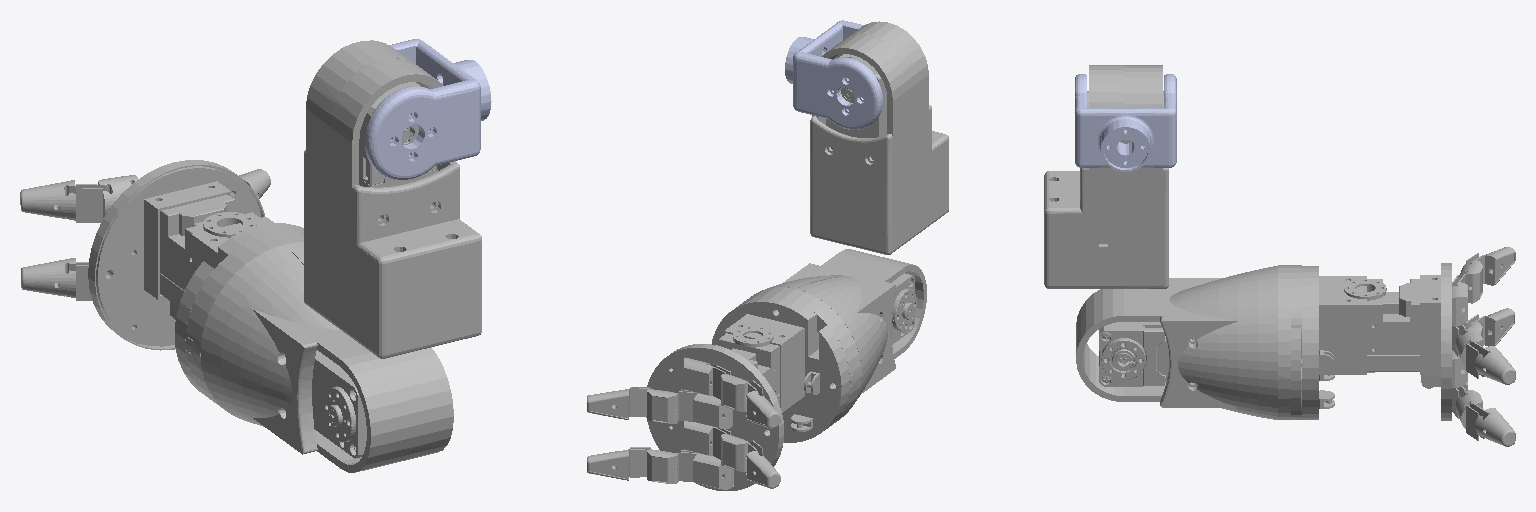
URDF robot description (left):
<?xml version="1.0" encoding="utf-8"?>
<!-- This URDF was automatically created by SolidWorks to URDF Exporter! Originally created by [author] ([email redacted]) 
     Commit Version: 1.6.0-4-g7f85cfe  Build Version: 1.6.7995.38578
     For more information, please see http://wiki.ros.org/sw_urdf_exporter -->
<robot
  name="left">
  
  
   <link name="world"/>
  
  
  
  <joint name="base_joint" type="fixed">
	<parent link="world"/>
	<child link="base_link"/>
	<origin rpy="0 0 0" xyz="0.0 0.0 1"/>
  </joint>  
  
  <link
    name="base_link">
    <inertial>
      <origin
        xyz="0.000333168231091308 -0.0490077134325242 0.105556739128517"
        rpy="0 0 0" />
      <mass
        value="0.43756889593348" />
      <inertia
        ixx="0.000780173945392212"
        ixy="1.72547696446316E-06"
        ixz="-8.11722846382814E-08"
        iyy="0.000825842165328829"
        iyz="4.67151417985947E-05"
        izz="0.000643183765667985" />
    </inertial>
    <visual>
      <origin
        xyz="0 0 0"
        rpy="0 0 0" />
      <geometry>
        <mesh
          filename="package://left/meshes/base_link.STL" />
      </geometry>
      <material
        name="">
        <color
          rgba="1 1 1 1" />
      </material>
    </visual>
    <collision>
      <origin
        xyz="0 0 0"
        rpy="0 0 0" />
      <geometry>
        <mesh
          filename="package://left/meshes/base_link.STL" />
      </geometry>
    </collision>
  </link>
  <link
    name="left_up_joint">
    <inertial>
      <origin
        xyz="-5.09595435294052E-10 -7.24041521182883E-10 -0.0157092653420776"
        rpy="0 0 0" />
      <mass
        value="0.0208133468453592" />
      <inertia
        ixx="6.27974968154287E-06"
        ixy="-1.32343047861604E-11"
        ixz="-8.95773959812006E-14"
        iyy="1.11423800240112E-05"
        iyz="-1.2794410246771E-13"
        izz="8.2135527700594E-06" />
    </inertial>
    <visual>
      <origin
        xyz="0 0 0"
        rpy="0 0 0" />
      <geometry>
        <mesh
          filename="package://left/meshes/left_up_joint.STL" />
      </geometry>
      <material
        name="">
        <color
          rgba="0.792156862745098 0.819607843137255 0.933333333333333 1" />
      </material>
    </visual>
    <collision>
      <origin
        xyz="0 0 0"
        rpy="0 0 0" />
      <geometry>
        <mesh
          filename="package://left/meshes/left_up_joint.STL" />
      </geometry>
    </collision>
  </link>
  <joint
    name="l1"
    type="revolute">
    <origin
      xyz="-0.0936387883044479 -0.0510621773979172 0.130726931673384"
      rpy="-1.5707963267949 0 1.5707963267949" />
    <parent
      link="base_link" />
    <child
      link="left_up_joint" />
    <axis
      xyz="0 0 1" />
    <limit
      lower="-3.14"
      upper="3.14"
      effort="100"
      velocity="1" />
  </joint>
  <link
    name="left_up_arm">
    <inertial>
      <origin
        xyz="0.0373903260955437 6.01721482867967E-05 -0.00541151025560828"
        rpy="0 0 0" />
      <mass
        value="0.142004365290477" />
      <inertia
        ixx="3.19807239576317E-05"
        ixy="-4.35320002639632E-08"
        ixz="2.24405433812155E-06"
        iyy="6.16421105939794E-05"
        iyz="9.81629533561359E-10"
        izz="6.84742764155625E-05" />
    </inertial>
    <visual>
      <origin
        xyz="0 0 0"
        rpy="0 0 0" />
      <geometry>
        <mesh
          filename="package://left/meshes/left_up_arm.STL" />
      </geometry>
      <material
        name="">
        <color
          rgba="0.752941176470588 0.752941176470588 0.752941176470588 1" />
      </material>
    </visual>
    <collision>
      <origin
        xyz="0 0 0"
        rpy="0 0 0" />
      <geometry>
        <mesh
          filename="package://left/meshes/left_up_arm.STL" />
      </geometry>
    </collision>
  </link>
  <joint
    name="l2"
    type="revolute">
    <origin
      xyz="0 0 0"
      rpy="1.5707963267949 0 1.57079632679489" />
    <parent
      link="left_up_joint" />
    <child
      link="left_up_arm" />
    <axis
      xyz="0 0 -1" />
    <limit
      lower="-3.14"
      upper="3.14"
      effort="100"
      velocity="1" />
  </joint>
  <link
    name="left_low_joint">
    <inertial>
      <origin
        xyz="2.22044604925031E-16 -2.85966136187588E-10 -0.0157092656103693"
        rpy="0 0 0" />
      <mass
        value="0.0208133475595526" />
      <inertia
        ixx="6.27974985366218E-06"
        ixy="-1.33778831812525E-11"
        ixz="1.17235207133201E-19"
        iyy="1.114238023727E-05"
        iyz="-4.94677558464213E-14"
        izz="8.21355305611453E-06" />
    </inertial>
    <visual>
      <origin
        xyz="0 0 0"
        rpy="0 0 0" />
      <geometry>
        <mesh
          filename="package://left/meshes/left_low_joint.STL" />
      </geometry>
      <material
        name="">
        <color
          rgba="0.792156862745098 0.819607843137255 0.933333333333333 1" />
      </material>
    </visual>
    <collision>
      <origin
        xyz="0 0 0"
        rpy="0 0 0" />
      <geometry>
        <mesh
          filename="package://left/meshes/left_low_joint.STL" />
      </geometry>
    </collision>
  </link>
  <joint
    name="l3"
    type="revolute">
    <origin
      xyz="0.117 0 -0.00100000000000006"
      rpy="-1.5707963267949 0 -1.5707963267949" />
    <parent
      link="left_up_arm" />
    <child
      link="left_low_joint" />
    <axis
      xyz="0 0 1" />
    <limit
      lower="-3.14"
      upper="3.14"
      effort="100"
      velocity="1" />
  </joint>
  <link
    name="left_low_arm">
    <inertial>
      <origin
        xyz="0.0481196273812194 -0.000145349329483678 0.000141021295786303"
        rpy="0 0 0" />
      <mass
        value="0.189033643696219" />
      <inertia
        ixx="7.6979741225698E-05"
        ixy="-3.38641336425108E-07"
        ixz="-3.25828337644159E-09"
        iyy="8.21074310058178E-05"
        iyz="-5.51403520464928E-07"
        izz="0.000103326261719523" />
    </inertial>
    <visual>
      <origin
        xyz="0 0 0"
        rpy="0 0 0" />
      <geometry>
        <mesh
          filename="package://left/meshes/left_low_arm.STL" />
      </geometry>
      <material
        name="">
        <color
          rgba="0.752941176470588 0.752941176470588 0.752941176470588 1" />
      </material>
    </visual>
    <collision>
      <origin
        xyz="0 0 0"
        rpy="0 0 0" />
      <geometry>
        <mesh
          filename="package://left/meshes/left_low_arm.STL" />
      </geometry>
    </collision>
  </link>
  <joint
    name="l4"
    type="revolute">
    <origin
      xyz="0 0 0"
      rpy="-1.5707963267949 0 -1.5707963267949" />
    <parent
      link="left_low_joint" />
    <child
      link="left_low_arm" />
    <axis
      xyz="0 0 -1" />
    <limit
      lower="-3.14"
      upper="3.14"
      effort="100"
      velocity="1" />
  </joint>
  <link
    name="left_gripper">
    <inertial>
      <origin
        xyz="0.00394028289479496 -0.0216328066989446 -0.000648626674703112"
        rpy="0 0 0" />
      <mass
        value="0.103299324219439" />
      <inertia
        ixx="2.09630043696831E-05"
        ixy="-3.12167035365805E-07"
        ixz="-2.90752267814506E-08"
        iyy="2.33522908570638E-05"
        iyz="-1.75561004581678E-08"
        izz="1.89319959235233E-05" />
    </inertial>
    <visual>
      <origin
        xyz="0 0 0"
        rpy="0 0 0" />
      <geometry>
        <mesh
          filename="package://left/meshes/left_gripper.STL" />
      </geometry>
      <material
        name="">
        <color
          rgba="0.752941176470588 0.752941176470588 0.752941176470588 1" />
      </material>
    </visual>
    <collision>
      <origin
        xyz="0 0 0"
        rpy="0 0 0" />
      <geometry>
        <mesh
          filename="package://left/meshes/left_gripper.STL" />
      </geometry>
    </collision>
  </link>
  <joint
    name="l5"
    type="fixed">
    <origin
      xyz="0.15114001564623 0.000250000152477973 -0.000500000000000389"
      rpy="-3.14159265358979 0 1.5707963267949" />
    <parent
      link="left_low_arm" />
    <child
      link="left_gripper" />
    <axis
      xyz="0 0 0" />
  </joint>
  
  <transmission name="left_up_joint_trans">
	<type>transmission_interface/SimpleTransmission</type>
	<joint name="l1">
		<hardwareInterface>hardware_interface/PositionJointInterface</hardwareInterface>
	</joint>
	<actuator name="left_up_joint_motor">
		<hardwareInterface>hardware_interface/PositionJointInterface</hardwareInterface>
		<mechanicalReduction>1</mechanicalReduction>
	</actuator>
  </transmission>
  
  <transmission name="left_up_arm_trans">
	<type>transmission_interface/SimpleTransmission</type>
	<joint name="l2">
		<hardwareInterface>hardware_interface/PositionJointInterface</hardwareInterface>
	</joint>
	<actuator name="left_up_arm_motor">
		<hardwareInterface>hardware_interface/PositionJointInterface</hardwareInterface>
		<mechanicalReduction>1</mechanicalReduction>
	</actuator>
  </transmission>
  
  <transmission name="left_low_joint_trans">
	<type>transmission_interface/SimpleTransmission</type>
	<joint name="l3">
		<hardwareInterface>hardware_interface/PositionJointInterface</hardwareInterface>
	</joint>
	<actuator name="left_low_joint_motor">
		<hardwareInterface>hardware_interface/PositionJointInterface</hardwareInterface>
		<mechanicalReduction>1</mechanicalReduction>
	</actuator>
  </transmission>
  
  <transmission name="left_low_arm_trans">
	<type>transmission_interface/SimpleTransmission</type>
	<joint name="l4">
		<hardwareInterface>hardware_interface/PositionJointInterface</hardwareInterface>
	</joint>
	<actuator name="left_low_arm_motor">
		<hardwareInterface>hardware_interface/PositionJointInterface</hardwareInterface>
		<mechanicalReduction>1</mechanicalReduction>
	</actuator>
  </transmission>  
   <gazebo>
	<plugin name="control" filename="libgazebo_ros_control.so">
		<robotNamespace>/</robotNamespace>
	</plugin>
  </gazebo>
  
  
  <gazebo reference="left_up_joint">
	<selfCollide>true</selfCollide>
  </gazebo>

  <gazebo reference="left_up_arm">
	<selfCollide>true</selfCollide>
  </gazebo>
  
  <gazebo reference="left_low_joint">
	<selfCollide>true</selfCollide>
  </gazebo>
  
    <gazebo reference="left_low_arm">
	<selfCollide>true</selfCollide>
  </gazebo>
  
  
</robot>

--- Facts derived from the render (not from the file) ---
Views: 3 orthographic renders of the robot side by side, from view 1: azimuth 30°, elevation 25°; view 2: azimuth 150°, elevation 25°; view 3: azimuth 270°, elevation 25°.
Robot: left — 7 links, 6 joints (4 revolute, 2 fixed); root link world; default pose: all joints at 0.
Visible links, largest first — view 1: left_up_arm, left_low_arm, left_gripper, left_up_joint; view 2: left_gripper, left_up_arm, left_low_arm, left_up_joint; view 3: left_low_arm, left_gripper, left_up_arm, left_up_joint.
Link boxes in pixels (x1,y1,x2,y2): left_up_arm: (304, 40, 481, 358); left_low_arm: (177, 225, 453, 472); left_gripper: (20, 160, 303, 391); left_up_joint: (365, 39, 491, 180); left_gripper: (587, 300, 843, 490); left_up_arm: (810, 21, 948, 254); left_low_arm: (736, 249, 926, 428); left_up_joint: (785, 20, 882, 129); left_low_arm: (1076, 265, 1314, 419); left_gripper: (1315, 247, 1515, 446); left_up_arm: (1044, 65, 1168, 288); left_up_joint: (1075, 74, 1176, 171).
Size in the robot's own frame: 0.1052 by 0.2171 by 0.1752 metres.
4 mesh visuals loaded from 6 distinct referenced files (4 binary STL); not drawn: 2 (reference not matched to a file when rendering).